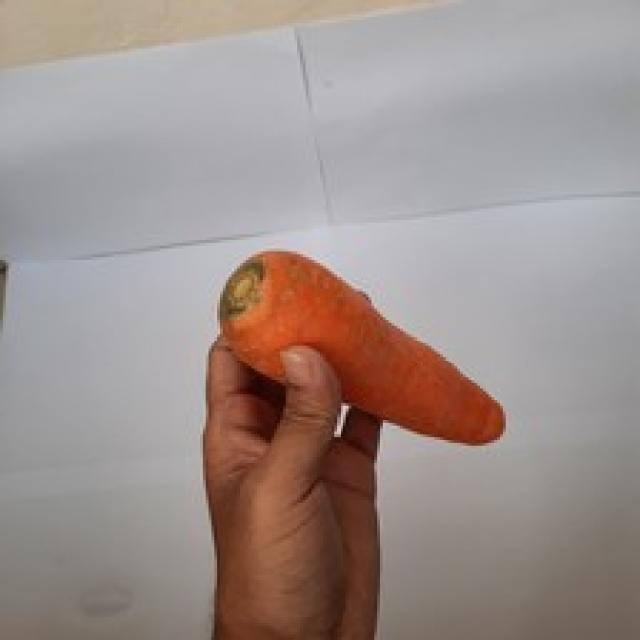Fresh_Carrot: (226, 253, 509, 445)
